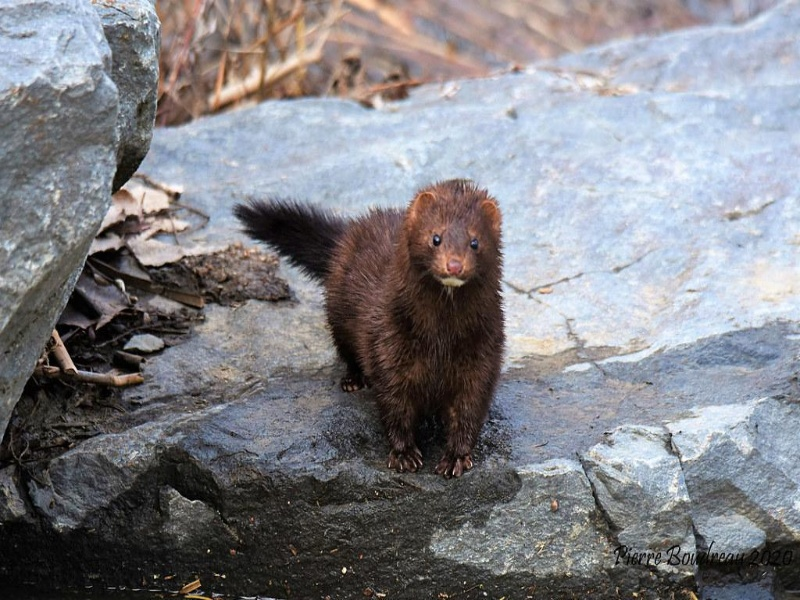minkish: (233, 178, 508, 477)
